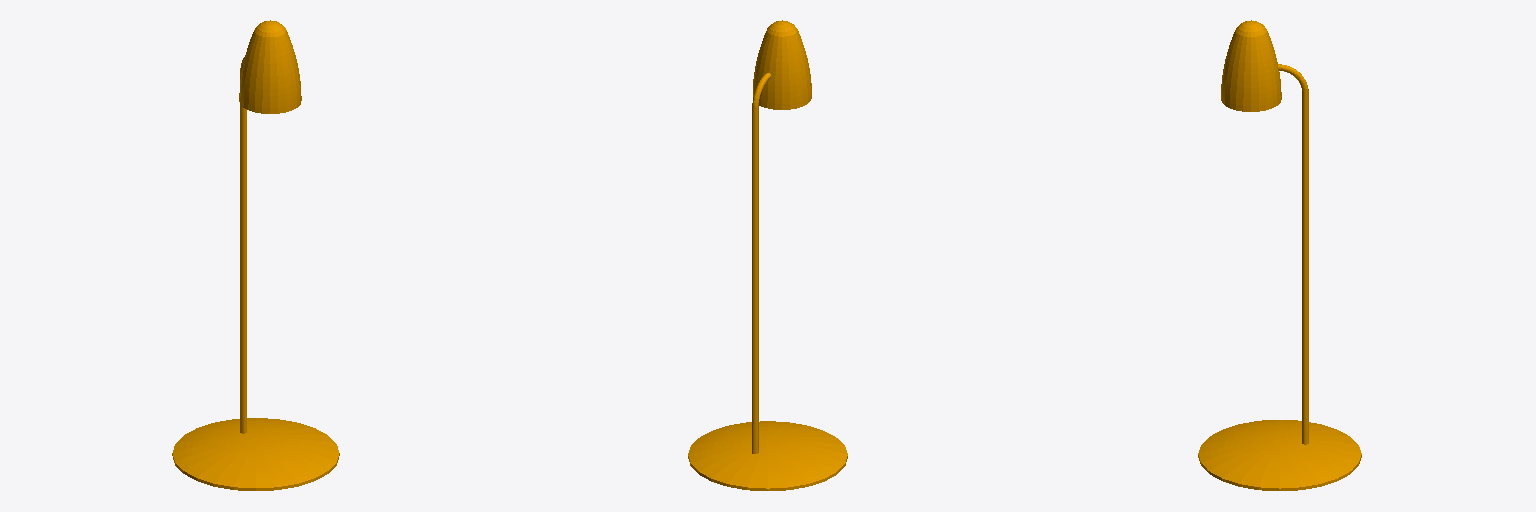
robot.urdf — 83353863ea1349682ebeb1e6a8111f53:
<?xml version="1.0" ?>
<robot name="83353863ea1349682ebeb1e6a8111f53" version="1.0">
  <link name="base_link">
    <inertial>
      <origin rpy="0.0 0.0 0.0" xyz="0.0 0.0 0.0"/>
      <mass value="176.01294927580372"/>
      <inertia ixx="0.001" ixy="0.0" ixz="0.0" iyy="0.001" iyz="0.0" izz="0.001"/>
    </inertial>
    <visual name="83353863ea1349682ebeb1e6a8111f53___1">
      <origin rpy="0.0 0.0 0.0" xyz="0.0 -0.0 0.0"/>
      <geometry>
        <mesh filename="shape/visual/83353863ea1349682ebeb1e6a8111f53_m1_vm.obj"/>
      </geometry>
    </visual>
    <visual name="83353863ea1349682ebeb1e6a8111f53___4">
      <origin rpy="0.0 0.0 0.0" xyz="0.0 -0.0 0.0"/>
      <geometry>
        <mesh filename="shape/visual/83353863ea1349682ebeb1e6a8111f53_m4_vm.obj"/>
      </geometry>
    </visual>
    <visual name="83353863ea1349682ebeb1e6a8111f53___2">
      <origin rpy="0.0 0.0 0.0" xyz="0.0 -0.0 0.0"/>
      <geometry>
        <mesh filename="shape/visual/83353863ea1349682ebeb1e6a8111f53_m2_vm.obj"/>
      </geometry>
    </visual>
    <visual name="83353863ea1349682ebeb1e6a8111f53___3">
      <origin rpy="0.0 0.0 0.0" xyz="0.0 -0.0 0.0"/>
      <geometry>
        <mesh filename="shape/visual/83353863ea1349682ebeb1e6a8111f53_m3_vm.obj"/>
      </geometry>
    </visual>
    <collision>
      <origin rpy="0.0 0.0 0.0" xyz="0.0 -0.0 0.0"/>
      <geometry>
        <mesh filename="shape/collision/83353863ea1349682ebeb1e6a8111f53_cm.obj"/>
      </geometry>
    </collision>
  </link>
</robot>

--- Facts derived from the render (not from the file) ---
Views: 3 orthographic renders of the robot side by side, from view 1: azimuth 30°, elevation 25°; view 2: azimuth 150°, elevation 25°; view 3: azimuth 270°, elevation 25°.
Model 83353863ea1349682ebeb1e6a8111f53 with 1 links and 0 joints (none), rooted at base_link, posed every joint at zero.
Visible links, largest first — view 1: base_link; view 2: base_link; view 3: base_link.
Boxes of the visible links, bbox=[...] form: base_link: bbox=[172, 20, 339, 490]; base_link: bbox=[688, 20, 847, 490]; base_link: bbox=[1198, 20, 1361, 490].
Bounding box of the posed robot: 0.6692 × 0.6692 × 1.97 m (x, y, z).
Meshes: 4 distinct files referenced, 4 mesh visuals loaded (4 OBJ).